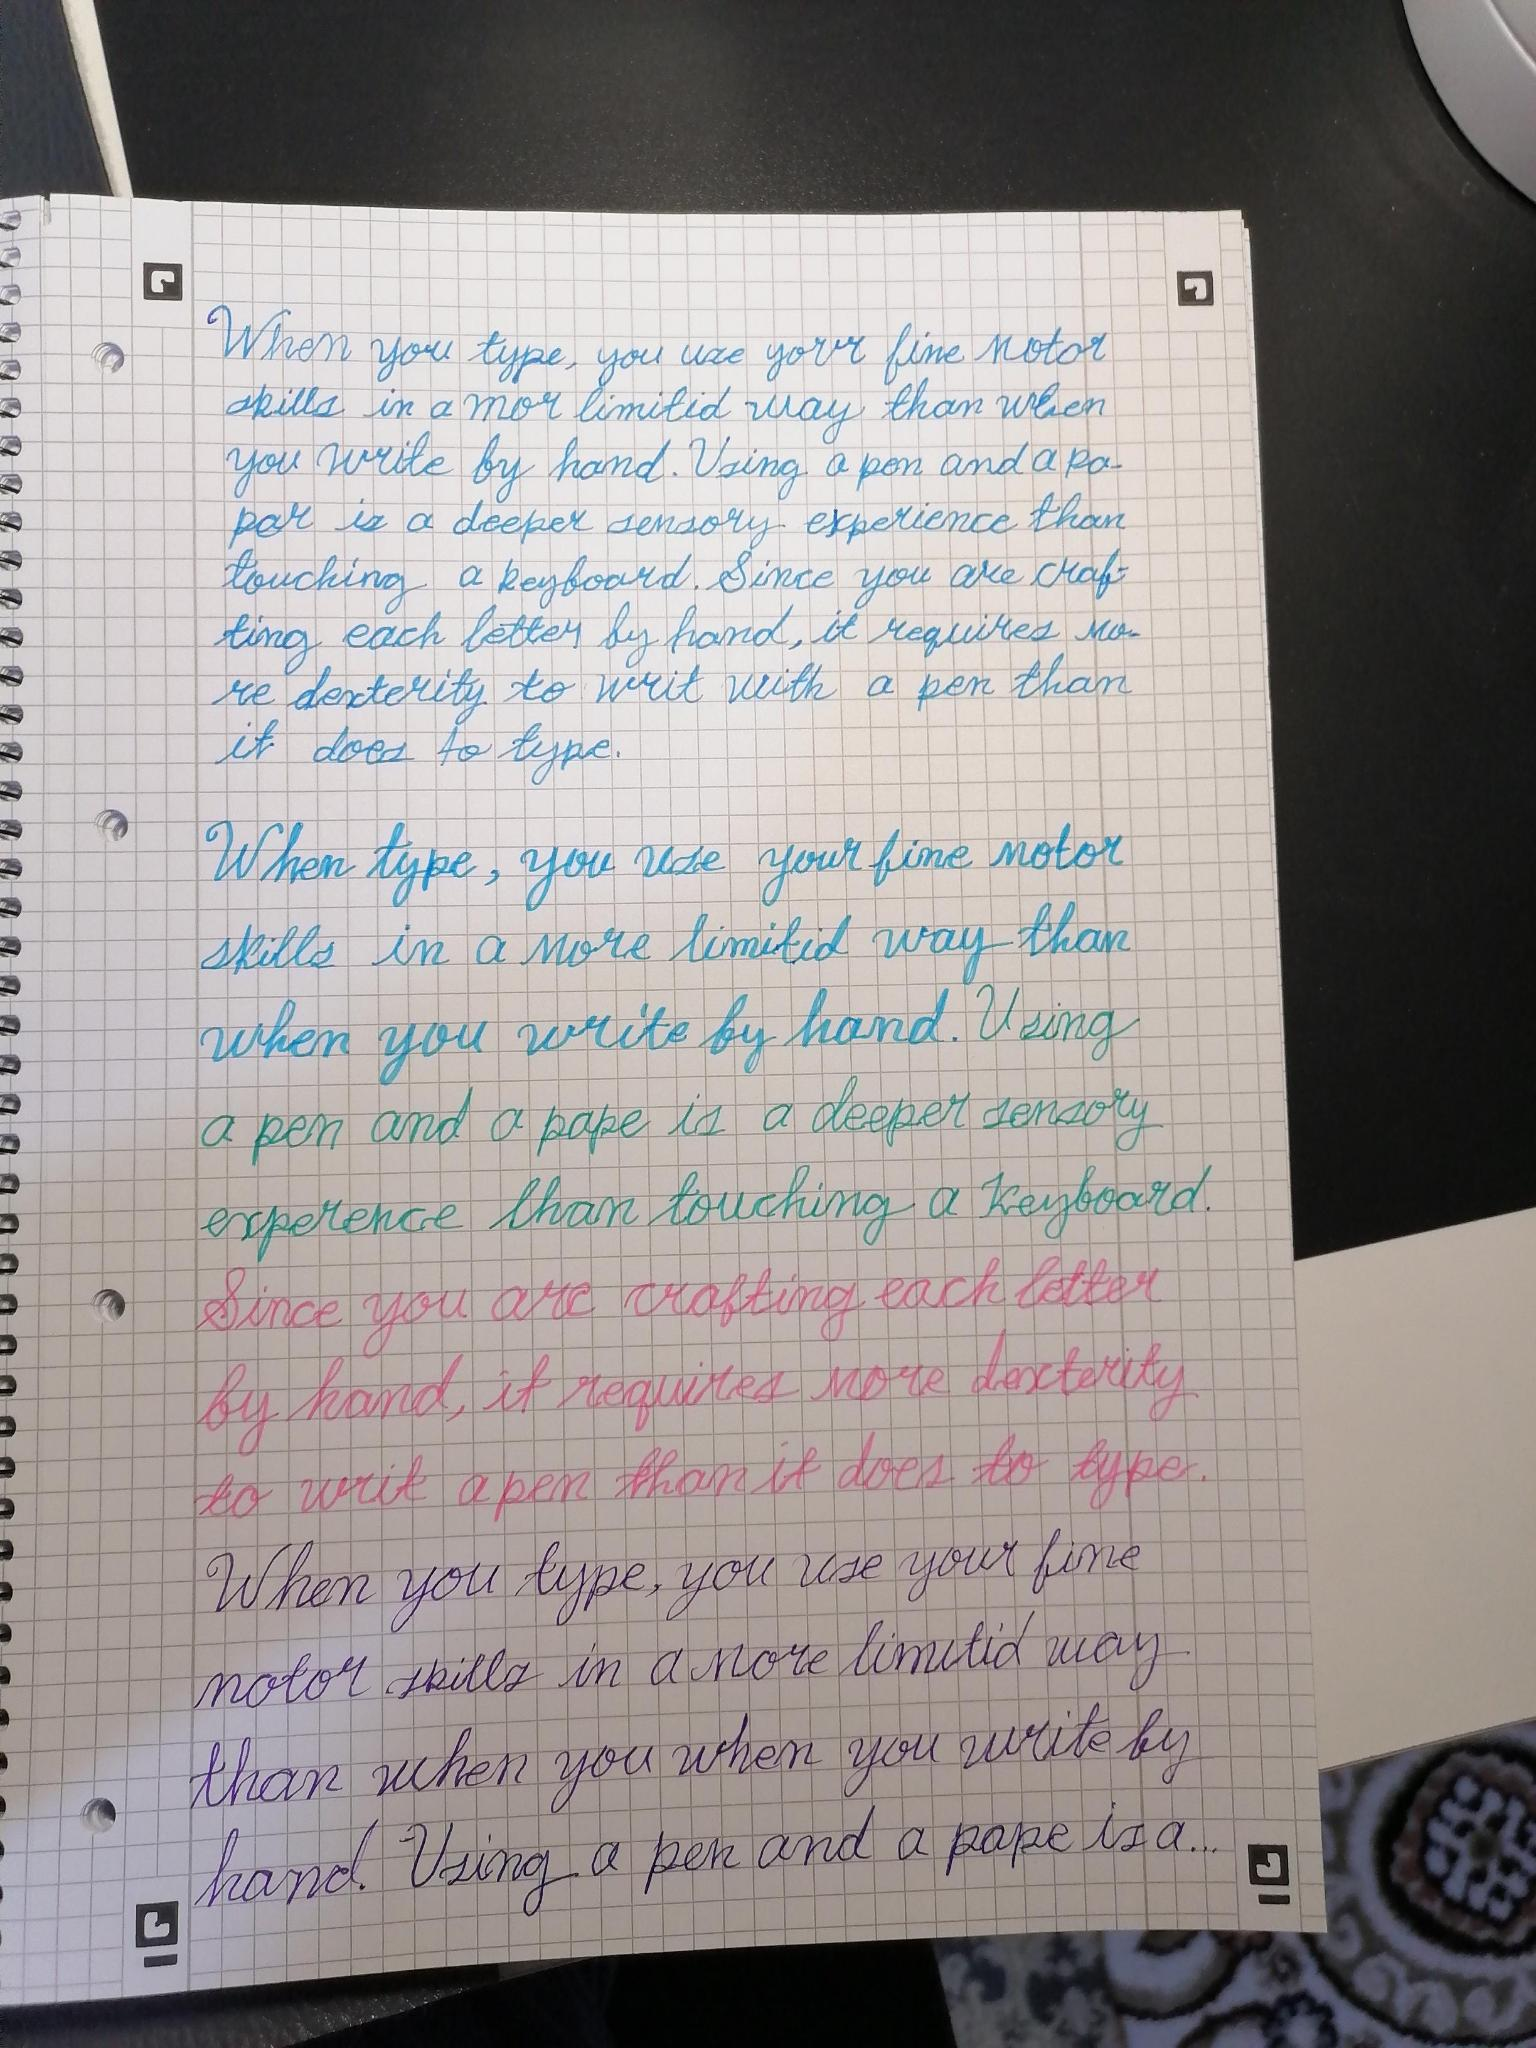text: (187, 1790, 1220, 1930), (192, 1322, 1212, 1463), (174, 1695, 1212, 1830), (186, 1601, 1176, 1727), (192, 1516, 1149, 1643), (186, 1245, 1163, 1369), (186, 1417, 1212, 1534), (192, 976, 1146, 1098), (195, 1159, 1225, 1268), (195, 808, 1134, 916), (198, 893, 1136, 998), (192, 1082, 1163, 1180), (211, 645, 1141, 731), (195, 311, 1117, 393), (216, 539, 1131, 621), (211, 431, 1126, 505), (224, 371, 1117, 447), (208, 605, 1136, 677), (218, 487, 1121, 560), (208, 705, 620, 792)
